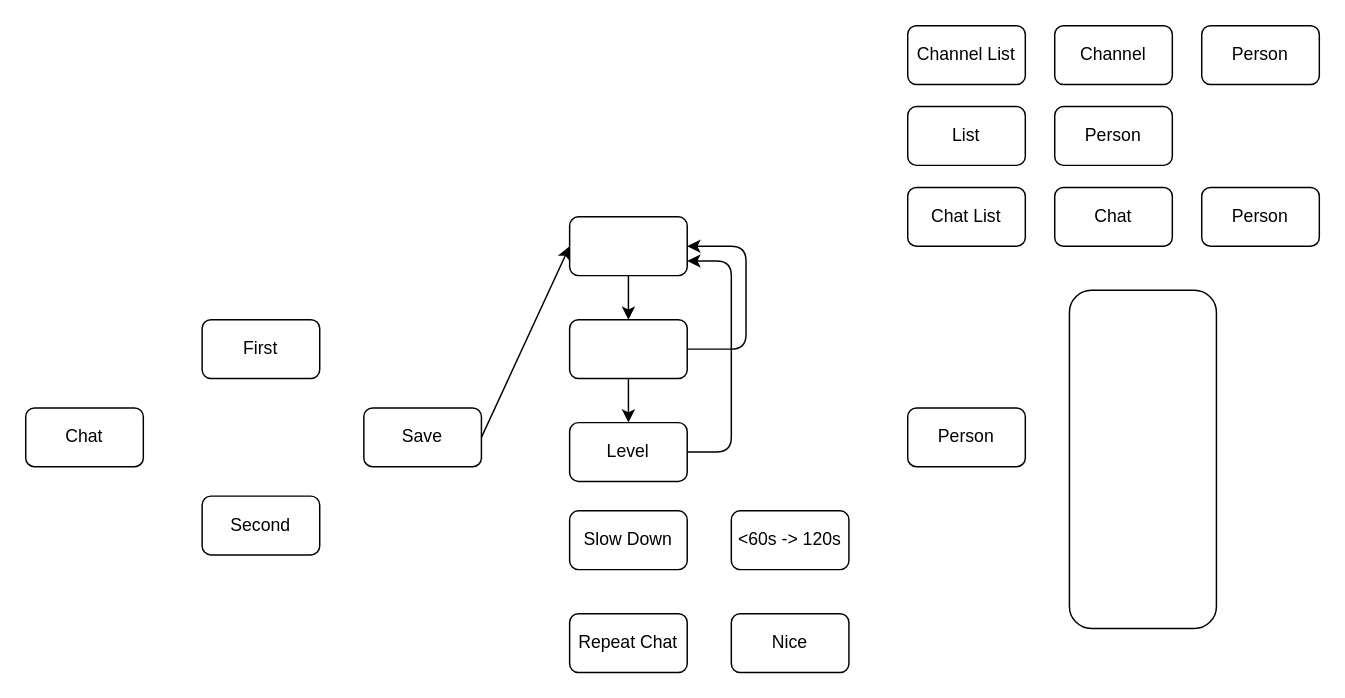
Image size: 1345x698. Some labels were removed from this diagram. The shapes that lost their labels are listed below. From the top down, each one's centre as x and y in pixels, then its label:
the point at 627,245: Block List
the point at 627,348: Repeat Person
the point at 1142,458: Name TalkNum Message Nice Repeat Average Anchor Date
